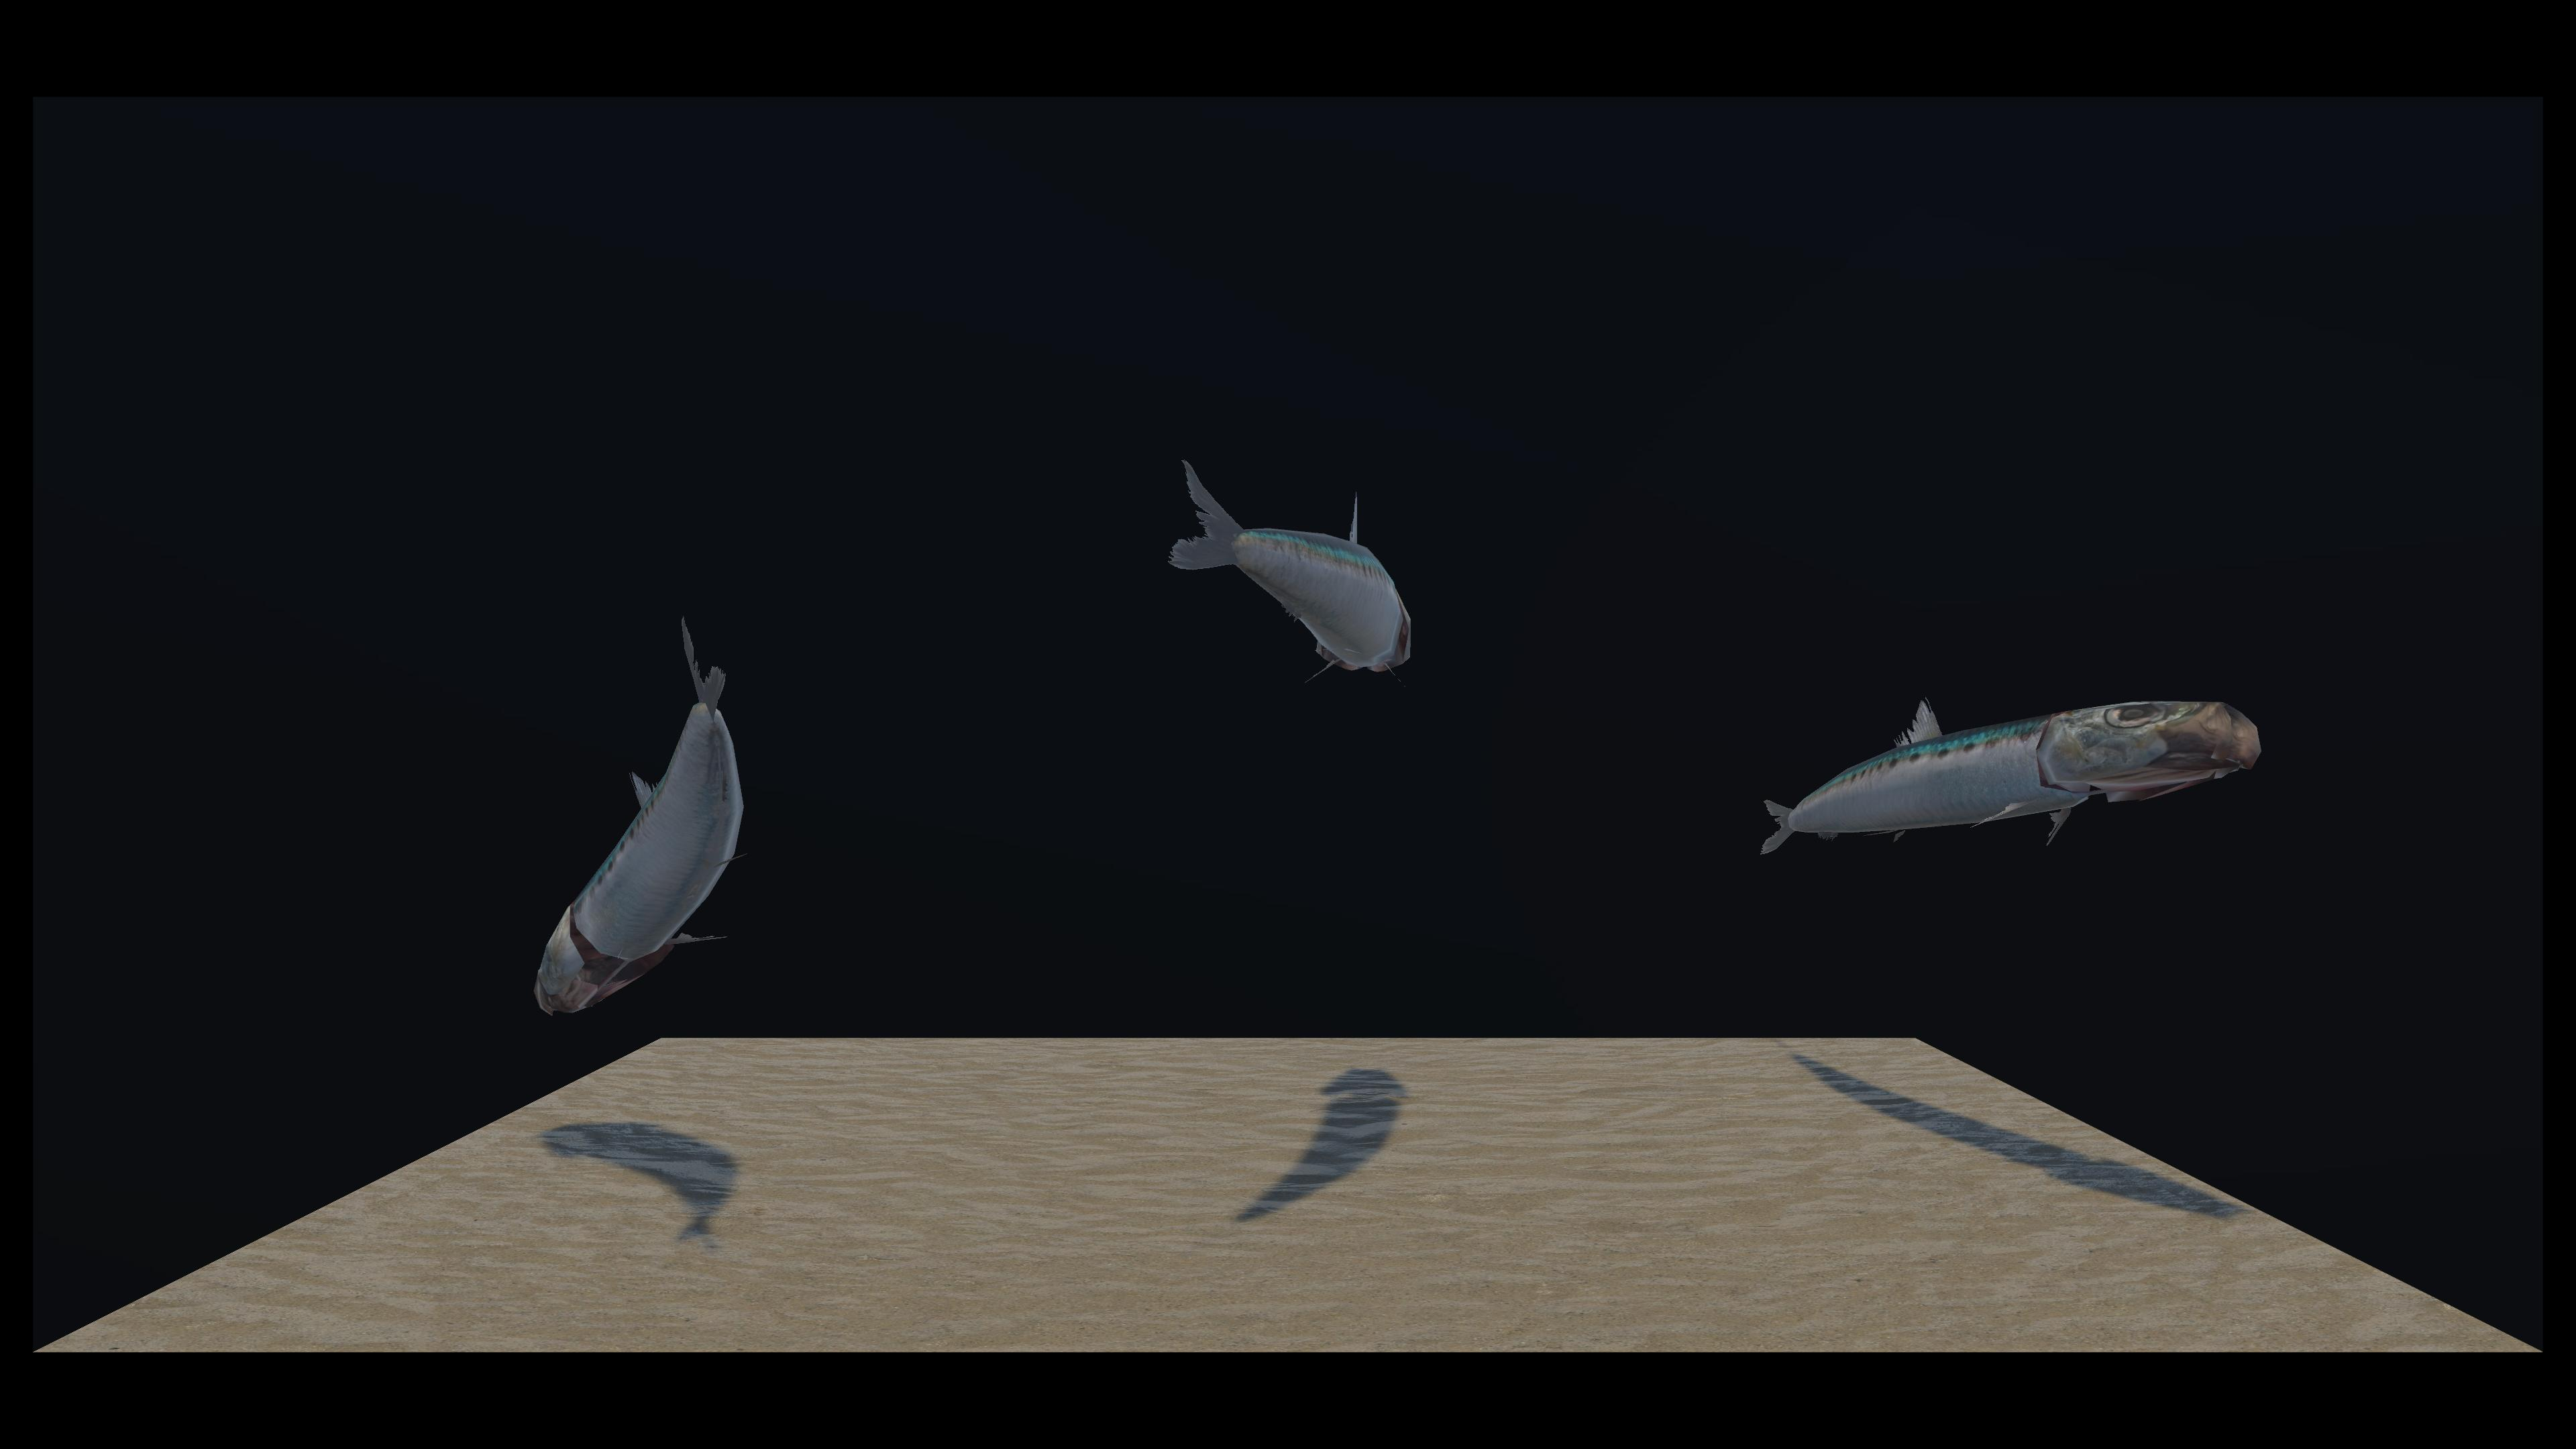Sardine_Front: (833, 462, 2219, 855), (402, 356, 1405, 694), (552, 614, 846, 966)
